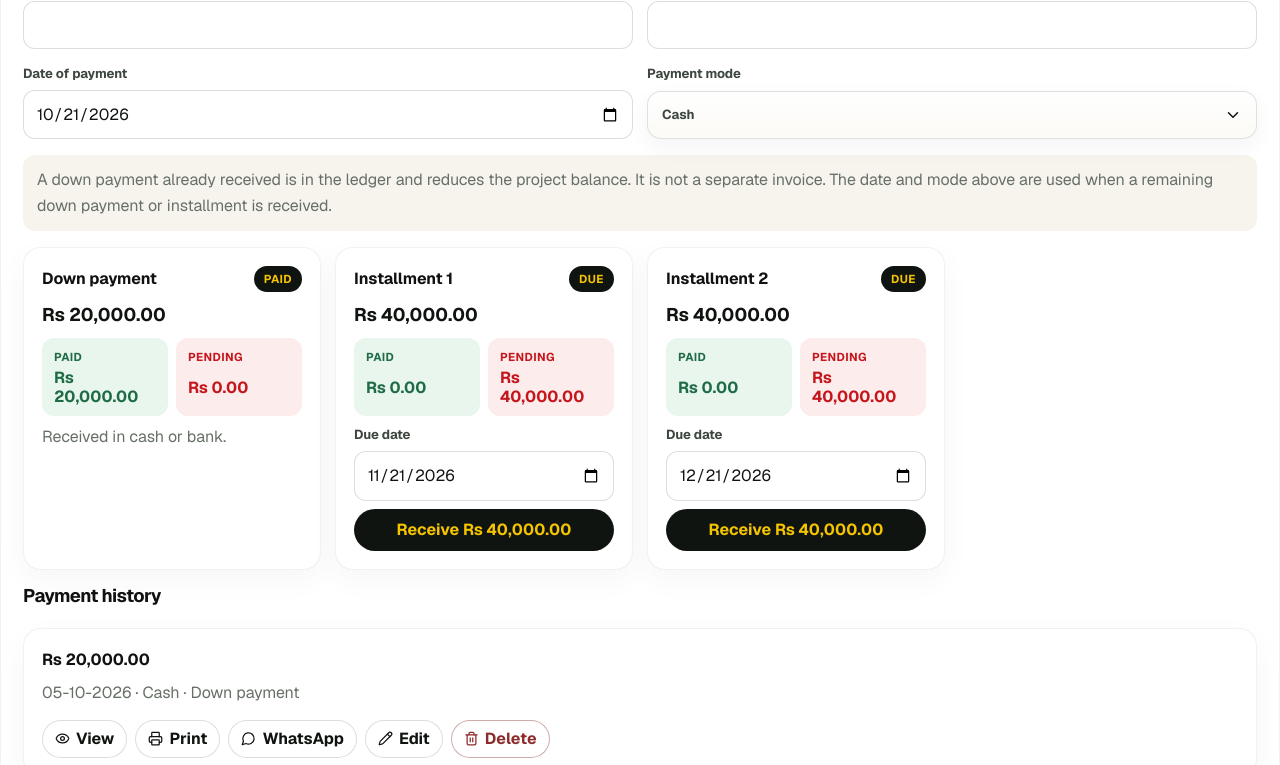
it: a payment in the history can be deleted after confirming
(page scrolled)
Expected: the text "05-10-2026 · Cash · Down payment" is shown, x1=42 y1=682 x2=299 y2=703
Expected: the button "View" is shown, x1=42 y1=720 x2=127 y2=758
Click the button "Delete": coordinates (500, 739) x1=451 y1=720 x2=550 y2=758
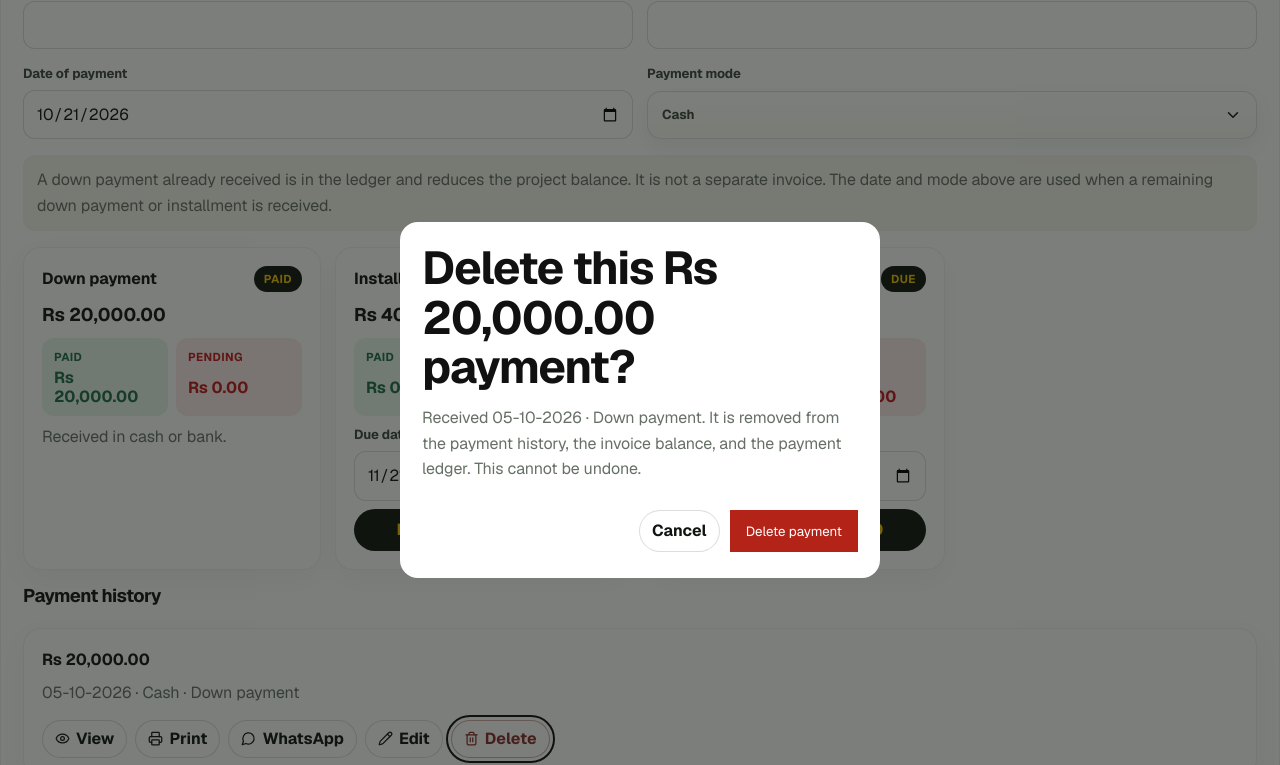
Expected: the dialog shows "removed from the payment history, the invoice balance, and the payment ledger", x1=422 y1=407 x2=841 y2=479
Click the button "Delete payment": coordinates (794, 531) x1=730 y1=510 x2=858 y2=552
(page scrolled)
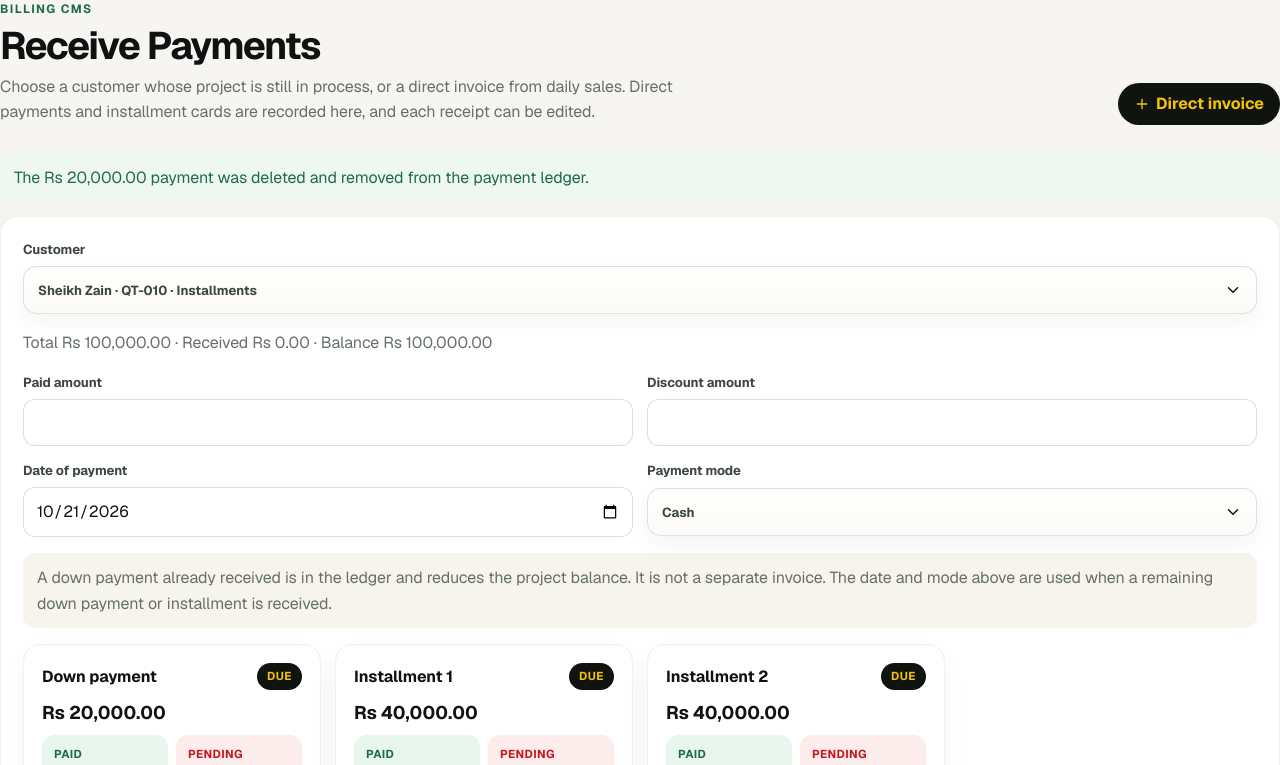
Expected: the text "was deleted and removed from the payment ledger" is shown, x1=14 y1=167 x2=589 y2=188
